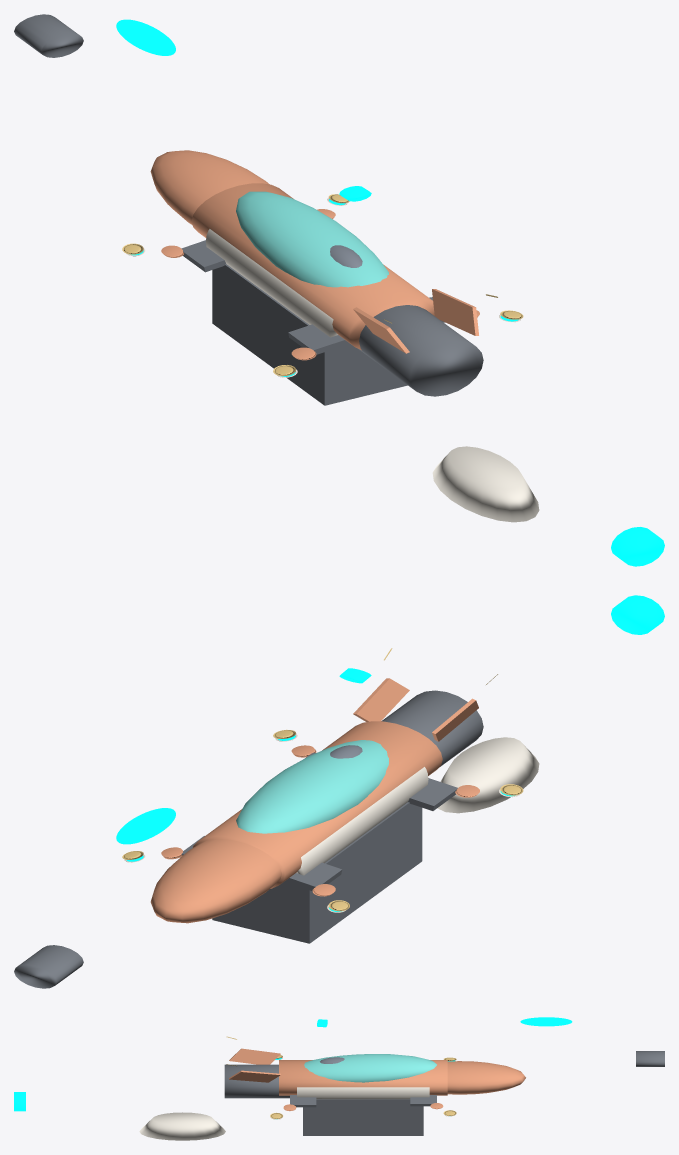
Rendered from hoverbike_v2.glb.
The picture shows the model from 3 angles, top to bottom: view 1: azimuth 30°, elevation 25°; view 2: azimuth 150°, elevation 25°; view 3: azimuth 270°, elevation 25°; orthographic projection. The views are drawn at different scales.
Visible parts, largest first — view 1: Chassis_Core, Canopy_GlassDome, Hull_Upper, Engine_Housing, Thruster_Nozzle, Hull_Nose, SidePanel_Left, Intake_Scoop, Thruster_GlowCore, Intake_GlowCore, TailFin_Right, Strut_Rear_Left (+1 smaller); view 2: Chassis_Core, Canopy_GlassDome, Hull_Nose, Hull_Upper, Thruster_Nozzle, Engine_Housing, SidePanel_Left, Intake_Scoop, Thruster_GlowCore, Intake_GlowCore, TailFin_Right, Strut_Rear_Left (+2 smaller); view 3: Chassis_Core, Canopy_GlassDome, Hull_Upper, Hull_Nose, Thruster_Nozzle, SidePanel_Right, Engine_Housing, TailFin_Left, Intake_Scoop, TailFin_Right, Intake_GlowCore, Strut_Rear_Right (+2 smaller).
Boxes of the visible parts, left/top/right/bottom form: Chassis_Core: left=212, top=264, right=407, bottom=405; Canopy_GlassDome: left=236, top=191, right=388, bottom=287; Hull_Upper: left=191, top=183, right=434, bottom=350; Engine_Housing: left=358, top=305, right=483, bottom=396; Thruster_Nozzle: left=432, top=446, right=539, bottom=522; Hull_Nose: left=150, top=150, right=269, bottom=224; SidePanel_Left: left=206, top=229, right=337, bottom=337; Intake_Scoop: left=14, top=14, right=83, bottom=57; Thruster_GlowCore: left=611, top=527, right=664, bottom=566; Intake_GlowCore: left=116, top=19, right=175, bottom=55; TailFin_Right: left=432, top=289, right=478, bottom=335; Strut_Rear_Left: left=288, top=324, right=349, bottom=354; Chassis_Core: left=212, top=802, right=422, bottom=943; Canopy_GlassDome: left=236, top=740, right=388, bottom=833; Hull_Nose: left=150, top=839, right=281, bottom=923; Hull_Upper: left=193, top=721, right=442, bottom=888; Thruster_Nozzle: left=437, top=737, right=539, bottom=813; Engine_Housing: left=381, top=690, right=483, bottom=766; SidePanel_Left: left=296, top=767, right=428, bottom=875; Intake_Scoop: left=14, top=945, right=83, bottom=988; Thruster_GlowCore: left=611, top=595, right=664, bottom=634; Intake_GlowCore: left=116, top=808, right=175, bottom=844; TailFin_Right: left=353, top=678, right=409, bottom=721; Strut_Rear_Left: left=408, top=778, right=457, bottom=810; Chassis_Core: left=303, top=1099, right=423, bottom=1135; Canopy_GlassDome: left=304, top=1054, right=436, bottom=1082; Hull_Upper: left=279, top=1060, right=447, bottom=1095; Hull_Nose: left=447, top=1061, right=525, bottom=1094; Thruster_Nozzle: left=139, top=1112, right=225, bottom=1140; SidePanel_Right: left=297, top=1087, right=429, bottom=1099; Engine_Housing: left=224, top=1064, right=289, bottom=1098; TailFin_Left: left=229, top=1048, right=280, bottom=1064; Intake_Scoop: left=636, top=1051, right=664, bottom=1066; TailFin_Right: left=229, top=1070, right=280, bottom=1082; Intake_GlowCore: left=520, top=1017, right=572, bottom=1026; Strut_Rear_Right: left=290, top=1095, right=316, bottom=1107.
Size of the model in its own units: 1.9 by 1.52 by 8.11.
